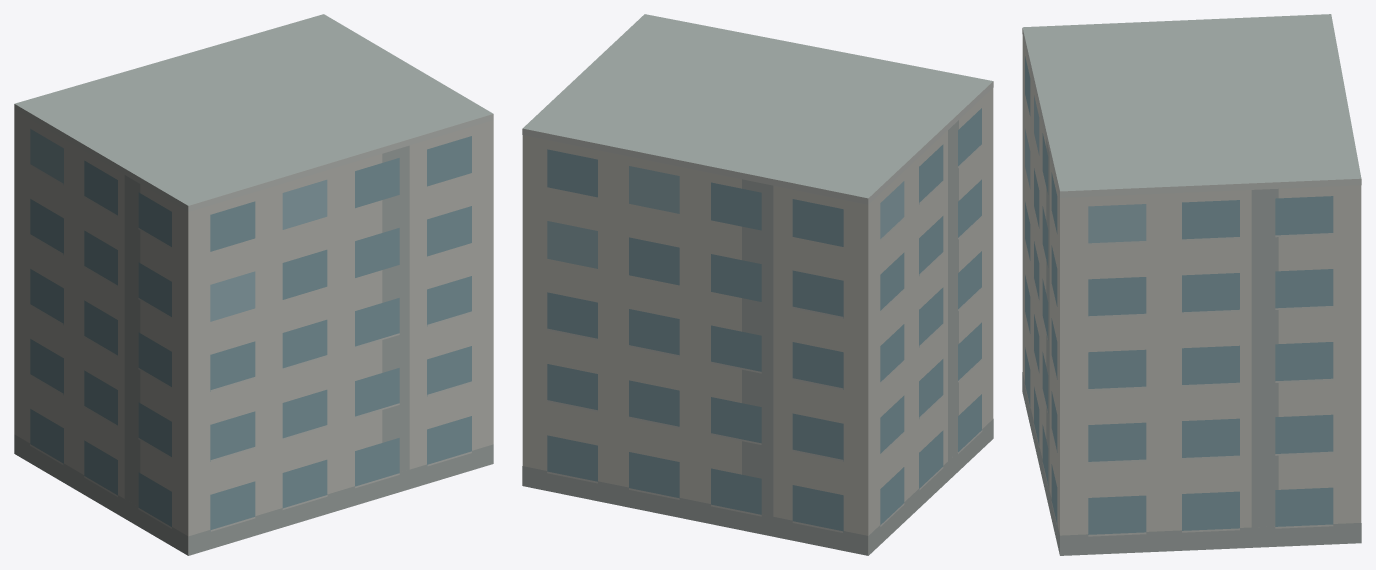
File: survey-upis-32563891.glb
3 views of the same model, side by side, from view 1: azimuth 30°, elevation 25°; view 2: azimuth 150°, elevation 25°; view 3: azimuth 270°, elevation 25° (orthographic). The views are drawn at different scales.
Parts seen in each view (by area): view 1: survey-upis-32563891.tmp; view 2: survey-upis-32563891.tmp; view 3: survey-upis-32563891.tmp.
Boxes of the visible parts, x1,y1,x2,y2 form: survey-upis-32563891.tmp: (14,14,493,555); survey-upis-32563891.tmp: (522,14,993,555); survey-upis-32563891.tmp: (1022,14,1361,555).
Size of the model in its own units: 14.11 by 13.5 by 11.39.
